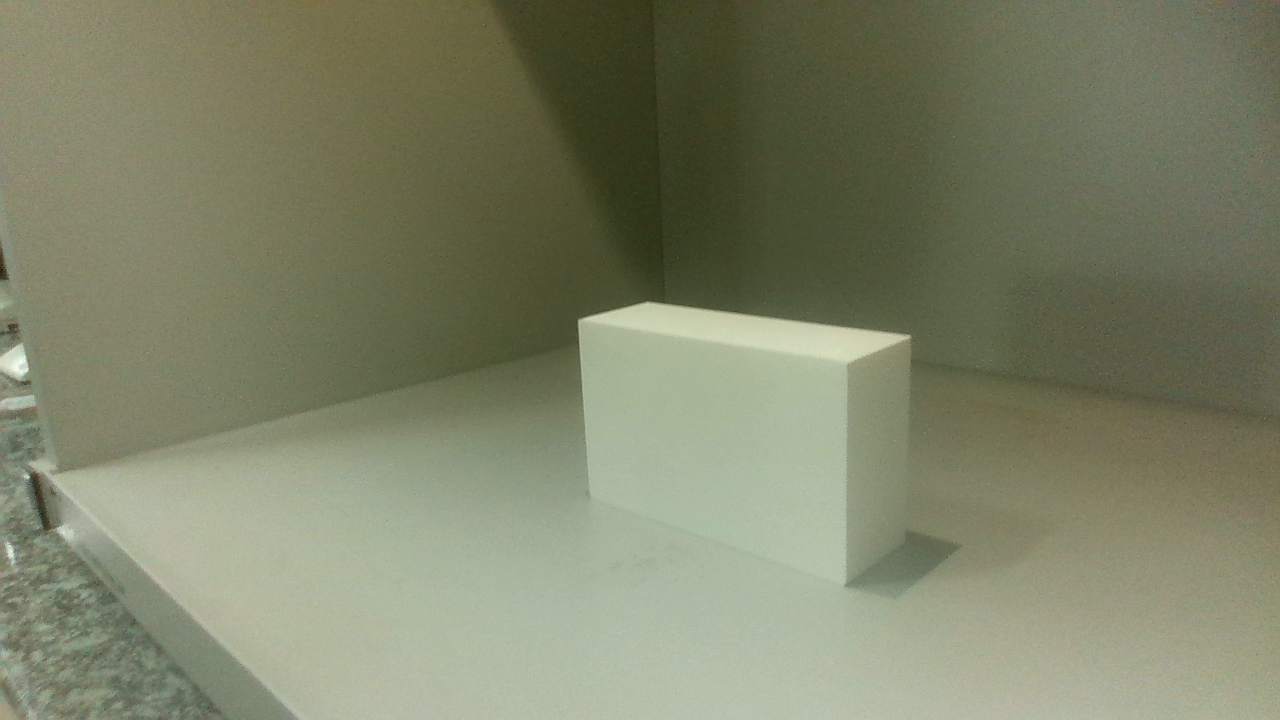Retangulo: (579, 302, 911, 585)
